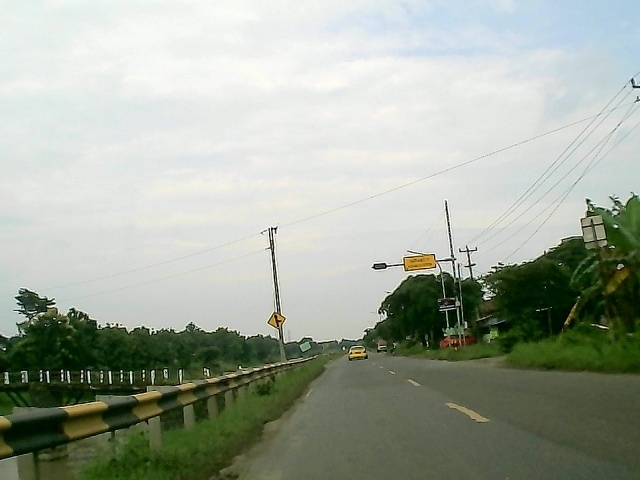Simpang kanan dengan prioritas: (267, 309, 286, 329)
